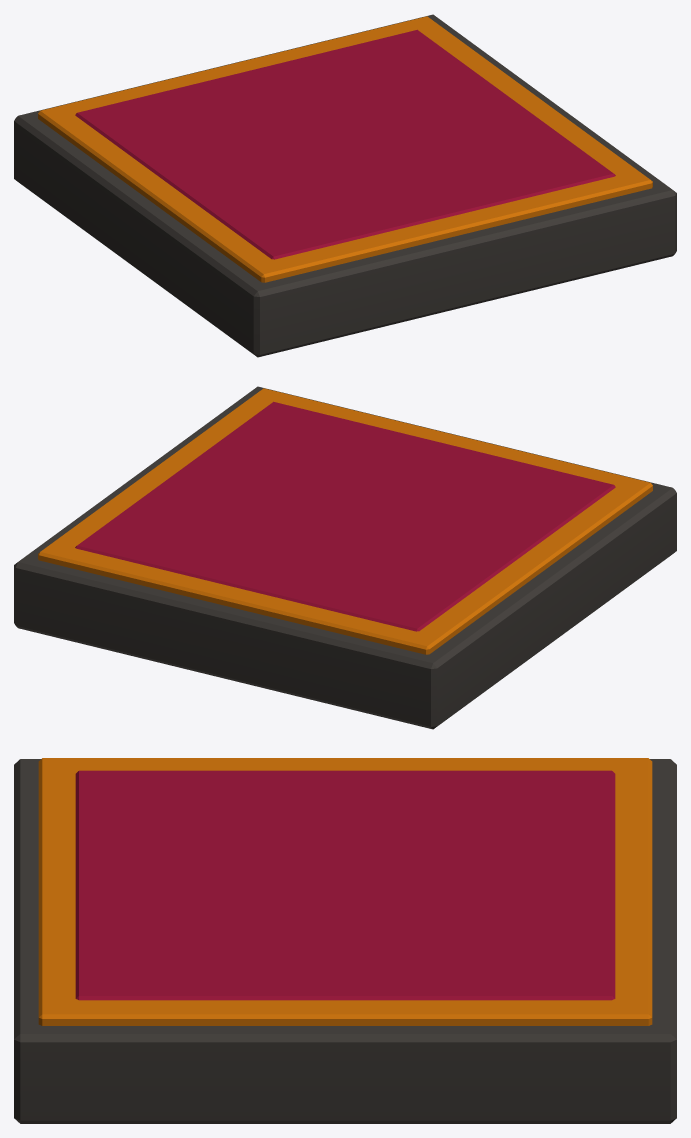
Rendered from carpet.glb.
3 renders of one model, top to bottom at view 1: azimuth 30°, elevation 25°; view 2: azimuth 150°, elevation 25°; view 3: azimuth 270°, elevation 25°, orthographic. The views are drawn at different scales.
Parts seen in each view (by area): view 1: carpet; view 2: carpet; view 3: carpet.
Boxes of the visible parts, box(x1,y1,x2,y2) form: carpet: box(14, 14, 676, 357); carpet: box(14, 386, 676, 729); carpet: box(14, 758, 676, 1123).
Bounding box in the file's own units: 1.47 × 0.252 × 1.47.
